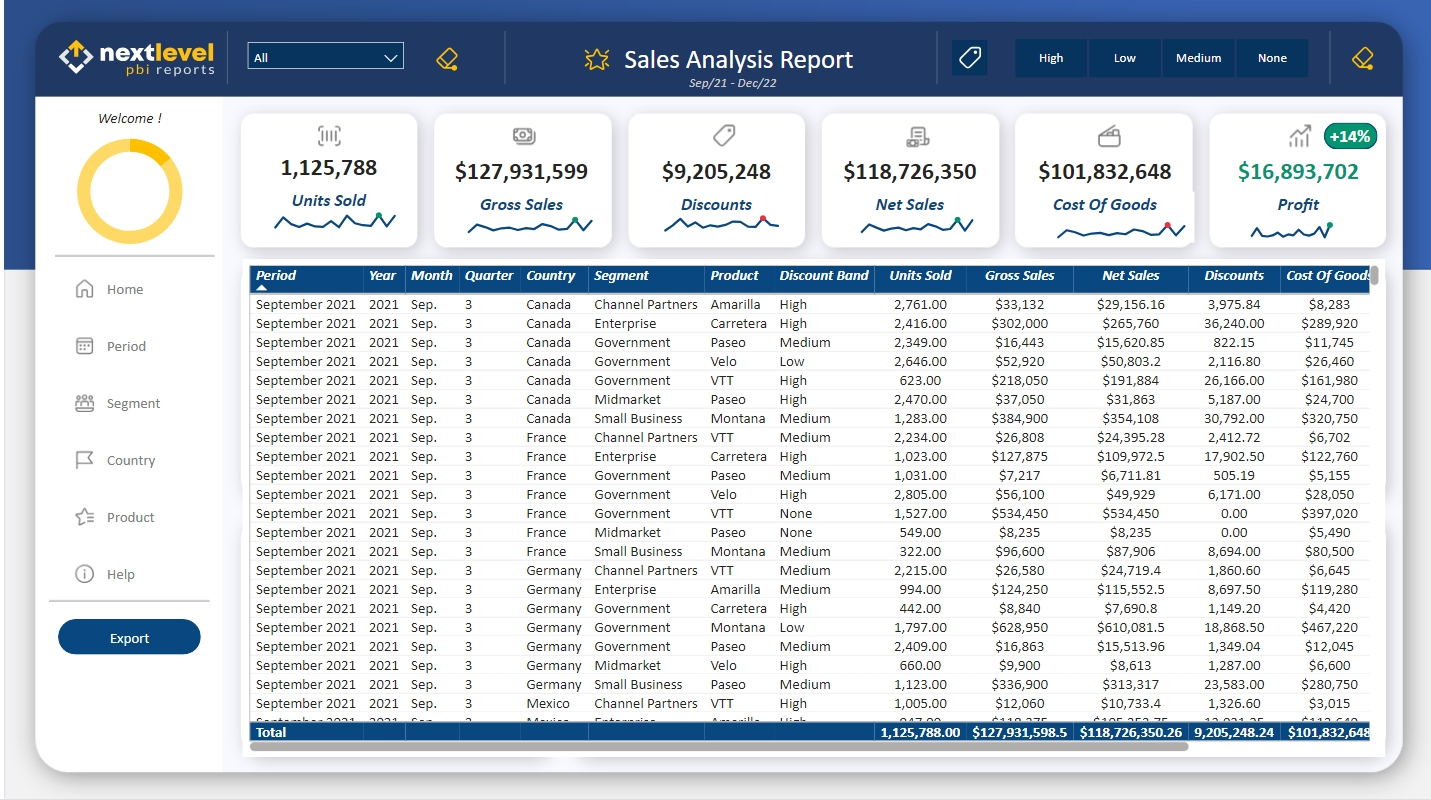

What the dashboard file says about the page in this screenshot:
{"tool":"powerbi","page":{"name":"Sales Analysis","canvas":[1280,720],"ordinal":1},"visuals":[{"type":"shape","title":"vertical line","box":[192,32,16,48],"z":0,"group":"g10"},{"type":"shape","title":"Profit margin Shape","box":[1182,114,48,24],"z":0,"group":"g7"},{"type":"shape","title":"line separate menu","box":[45,218,143,32],"z":0,"group":"g8"},{"type":"actionButton","title":"Units sold Button","box":[222,243,32,32],"z":0,"group":"g6"},{"type":"actionButton","title":"Net Sales Button","box":[567,243,32,32],"z":0,"group":"g4"},{"type":"actionButton","title":"Profit Button","box":[918,243,32,32],"z":0,"group":"g2"},{"type":"actionButton","title":"Period_active","box":[32,291,160,48],"z":0,"group":"g11"},{"type":"tableEx","fields":{"Values":["Dim_Date.Reporting period","Mesures.M_Units Sold","Mesures.M_Gross Sales","Mesures.M_Discounts","Mesures.M_Net Sales","Mesures.M_Cost Of Goods","Mesures.M_Profit","Mesures.M_Profit Margin Formatted"]},"box":[512,464,720,216],"z":0,"group":"g5"},{"type":"actionButton","title":"COGs Button","box":[224,472,32,32],"z":0,"group":"g1"},{"type":"actionButton","title":"Export","box":[48,560,128,32],"z":0,"group":"g3"},{"type":"slicer","title":"Manager Slicer","fields":{"Values":["DIM_MANAGERS.Manager Name"]},"box":[208,32,160,48],"z":1000,"group":"g9"},{"type":"shape","title":"vertical line","box":[440,32,16,48],"z":1000,"group":"g10"},{"type":"card","title":"Welcome_card","fields":{"Values":["Mesures.M_User Greeting"]},"box":[32,96,160,32],"z":1000,"group":"g8"},{"type":"card","title":"Profit margin Card","fields":{"Values":["Mesures.M_Profit Margin Formatted"]},"box":[1178,106,54,42],"z":1000,"group":"g7"},{"type":"lineChart","title":"Profit by Period","fields":{"Category":["Dim_Date.Reporting period"],"Y":["Mesures.M_Profit"]},"box":[912,243,320,200],"z":1000,"group":"g2"},{"type":"areaChart","title":"Units Sold by Period","fields":{"Category":["Dim_Date.Reporting period"],"Y":["Mesures.M_Units Sold"]},"box":[216,246,320,200],"z":1000,"group":"g6"},{"type":"lineChart","title":"Net Sales by Period","fields":{"Category":["Dim_Date.Reporting period"],"Y":["Mesures.M_Net Sales"]},"box":[560,246,320,200],"z":1000,"group":"g4"},{"type":"actionButton","title":"arrow Button","box":[160,291,32,48],"z":1000,"group":"g11"},{"type":"group","id":"g1","title":"CoGs Line chart","box":[200,472,304,200],"z":1000,"group":"g5"},{"type":"lineChart","title":"COGs by Period","fields":{"Category":["Dim_Date.Reporting period"],"Y":["Mesures.M_Cost Of Goods"]},"box":[200,472,304,200],"z":1000,"group":"g1"},{"type":"shape","title":"Bottom_line","box":[40,528,144,32],"z":1000,"group":"g3"},{"type":"shape","title":"vertical line","box":[832,32,8,48],"z":2000,"group":"g10"},{"type":"actionButton","title":" Clear Button  Manager","box":[378,44,36,25],"z":2000,"group":"g9"},{"type":"actionButton","title":"Profit Button","box":[1144,110,32,32],"z":2000,"group":"g7"},{"type":"donutChart","title":"Donut chart","fields":{"Y":["Mesures.M_Profit Margin","Mesures.M_100% Minus Profit Margin"]},"box":[48,112,128,128],"z":2000,"group":"g8"},{"type":"group","id":"g2","title":"Profit line chart","box":[912,235,321,208],"z":2000,"group":"g5"},{"type":"shape","title":"Profit margin Shape","box":[1145,243,88,24],"z":2000,"group":"g2"},{"type":"actionButton","title":"Help","box":[32,495,160,48],"z":2000,"group":"g3"},{"type":"shape","title":"vertical line","box":[1184,32,8,48],"z":3000,"group":"g10"},{"type":"actionButton","title":"Star Logo","box":[500,37,63,40],"z":3000,"group":"g9"},{"type":"pivotTable","title":"Profit Matrix","fields":{"Values":["SparklineData(Mesures.M_Profit_[Dim_Date.yearMonth])"]},"box":[1088,170,135,58],"z":3000,"group":"g7"},{"type":"card","title":"Profit margin Card","fields":{"Values":["Mesures.M_Profit YOY% Formatted"]},"box":[1145,235,87,42],"z":3000,"group":"g2"},{"type":"group","id":"g3","title":"Menu bar","box":[32,240,160,352],"z":3000,"group":"g8"},{"type":"group","id":"g4","title":"Net sales line chart","box":[560,243,320,203],"z":3000,"group":"g5"},{"type":"textbox","title":"Title","box":[550,37,235,41],"z":4000,"group":"g9"},{"type":"card","title":"Profit Card","fields":{"Values":["Mesures.M_Profit"]},"box":[1086,119,144,96],"z":4000,"group":"g7"},{"type":"group","id":"g5","title":"Period","box":[200,235,1033,445],"z":4000},{"type":"group","id":"g6","title":"Units sold line chart","box":[216,243,320,203],"z":4000,"group":"g5"},{"type":"actionButton","title":"Product","box":[32,444,160,48],"z":4000,"group":"g3"},{"type":"card","title":"Selected_date Card ","fields":{"Values":["Mesures.M_Date Selection"]},"box":[592,64,120,24],"z":5000,"group":"g9"},{"type":"group","id":"g7","title":"Upper Cards - Static","box":[213,106,1019,132],"z":5000},{"type":"actionButton","title":"COGs Button","box":[973.4,110,32,32],"z":5000,"group":"g7"},{"type":"actionButton","title":"Dynamic Filter_button","box":[848,40,32,32],"z":6000,"group":"g9"},{"type":"group","id":"g8","title":"Navigation","box":[32,96,160,496],"z":6000},{"type":"pivotTable","title":"COGs Matrix","fields":{"Values":["SparklineData(Mesures.M_Cost Of Goods_[Dim_Date.yearMonth])"]},"box":[914.8,170,157,68],"z":6000,"group":"g7"},{"type":"actionButton","title":"Country","box":[32,393,160,48],"z":6000,"group":"g3"},{"type":"group","id":"g9","title":"Header","box":[192,32,1048,56],"z":7000},{"type":"slicer","title":"Slicer for Discount Band","fields":{"Values":["FACT_SALES.Discount Band"]},"box":[880,32,312,48],"z":7000,"group":"g9"},{"type":"card","title":"COGs Card","fields":{"Values":["Mesures.M_Cost Of Goods"]},"box":[912.2,119,144,96],"z":7000,"group":"g7"},{"type":"actionButton","title":"Clear Button","box":[1192,40,48,32],"z":8000,"group":"g9"},{"type":"actionButton","title":"Net Sales Button","box":[802.8,110,32,32],"z":8000,"group":"g7"},{"type":"actionButton","title":"Segment","box":[32,342,160,48],"z":8000,"group":"g3"},{"type":"group","id":"g10","title":"Vertical lines","box":[192,32,1000,48],"z":9000,"group":"g9"},{"type":"pivotTable","title":"Net sales Matrix","fields":{"Values":["SparklineData(Mesures.M_Net Sales_[Dim_Date.yearMonth])"]},"box":[738.6,164,170,64],"z":9000,"group":"g7"},{"type":"group","id":"g11","title":"Period_active","box":[32,291,160,48],"z":9000,"group":"g3"},{"type":"card","title":"Net_sales Card","fields":{"Values":["Mesures.M_Net Sales"]},"box":[738.4,119,144,96],"z":10000,"group":"g7"},{"type":"actionButton","title":"Discounts Button","box":[624.2,110,40,32],"z":11000,"group":"g7"},{"type":"actionButton","title":"Home","box":[32,240,160,48],"z":11000,"group":"g3"},{"type":"pivotTable","title":"Discounts Matrix","fields":{"Values":["SparklineData(Mesures.M_Discounts_[Dim_Date.yearMonth])"]},"box":[562.4,162,170,66],"z":12000,"group":"g7"},{"type":"card","title":"Discounts Card","fields":{"Values":["Mesures.M_Discounts"]},"box":[564.6,119,144,96],"z":13000,"group":"g7"},{"type":"actionButton","title":"Gross sales Button","box":[445.6,110,40,32],"z":14000,"group":"g7"},{"type":"pivotTable","title":"Gross_sales Matrix","fields":{"Values":["SparklineData(Mesures.M_Gross Sales_[Dim_Date.yearMonth])"]},"box":[386.2,164,170,64],"z":15000,"group":"g7"},{"type":"card","title":"Gross_sales Card","fields":{"Values":["Mesures.M_Gross Sales"]},"box":[390.8,119,144,96],"z":16000,"group":"g7"},{"type":"actionButton","title":"Units sold Button","box":[275,110,32,32],"z":17000,"group":"g7"},{"type":"pivotTable","title":"Unit_sold Matrix","fields":{"Values":["SparklineData(Mesures.M_Units Sold_[Dim_Date.yearMonth])"]},"box":[213,160,170,68],"z":18000,"group":"g7"},{"type":"card","title":"Unit_sold Card","fields":{"Values":["Mesures.M_Units Sold"]},"box":[218,119,143,89],"z":19000,"group":"g7"}]}

Visuals, with their boxes in screenshot pixels (x1, y1, x2, y2), scaled from the page's 1280x720 canvas onto the 1431x800 screenshot:
"vertical line" shape: (215, 36, 233, 89)
"Profit margin Shape" shape: (1321, 127, 1375, 153)
"line separate menu" shape: (50, 242, 210, 278)
"Units sold Button" actionButton: (248, 270, 284, 306)
"Net Sales Button" actionButton: (634, 270, 670, 306)
"Profit Button" actionButton: (1026, 270, 1062, 306)
"Period_active" actionButton: (36, 323, 215, 377)
tableEx - Dim_Date.Reporting period x Mesures.M_Units Sold: (572, 516, 1377, 756)
"COGs Button" actionButton: (250, 524, 286, 560)
"Export" actionButton: (54, 622, 197, 658)
"Manager Slicer" slicer: (233, 36, 411, 89)
"vertical line" shape: (492, 36, 510, 89)
"Welcome_card" card: (36, 107, 215, 142)
"Profit margin Card" card: (1317, 118, 1377, 164)
"Profit by Period" lineChart: (1020, 270, 1377, 492)
"Units Sold by Period" areaChart: (241, 273, 599, 496)
"Net Sales by Period" lineChart: (626, 273, 984, 496)
"arrow Button" actionButton: (179, 323, 215, 377)
"CoGs Line chart" group: (224, 524, 563, 747)
"COGs by Period" lineChart: (224, 524, 563, 747)
"Bottom_line" shape: (45, 587, 206, 622)
"vertical line" shape: (930, 36, 939, 89)
" Clear Button  Manager" actionButton: (423, 49, 463, 77)
"Profit Button" actionButton: (1279, 122, 1315, 158)
"Donut chart" donutChart: (54, 124, 197, 267)
"Profit line chart" group: (1020, 261, 1378, 492)
"Profit margin Shape" shape: (1280, 270, 1378, 297)
"Help" actionButton: (36, 550, 215, 603)
"vertical line" shape: (1324, 36, 1333, 89)
"Star Logo" actionButton: (559, 41, 629, 86)
"Profit Matrix" pivotTable: (1216, 189, 1367, 253)
"Profit margin Card" card: (1280, 261, 1377, 308)
"Menu bar" group: (36, 267, 215, 658)
"Net sales line chart" group: (626, 270, 984, 496)
"Title" textbox: (615, 41, 878, 87)
"Profit Card" card: (1214, 132, 1375, 239)
"Period" group: (224, 261, 1378, 756)
"Units sold line chart" group: (241, 270, 599, 496)
"Product" actionButton: (36, 493, 215, 547)
"Selected_date Card " card: (662, 71, 796, 98)
"Upper Cards - Static" group: (238, 118, 1377, 264)
"COGs Button" actionButton: (1088, 122, 1124, 158)
"Dynamic Filter_button" actionButton: (948, 44, 984, 80)
"Navigation" group: (36, 107, 215, 658)
"COGs Matrix" pivotTable: (1023, 189, 1198, 264)
"Country" actionButton: (36, 437, 215, 490)
"Header" group: (215, 36, 1386, 98)
"Slicer for Discount Band" slicer: (984, 36, 1333, 89)
"COGs Card" card: (1020, 132, 1181, 239)
"Clear Button" actionButton: (1333, 44, 1386, 80)
"Net Sales Button" actionButton: (898, 122, 933, 158)
"Segment" actionButton: (36, 380, 215, 433)
"Vertical lines" group: (215, 36, 1333, 89)
"Net sales Matrix" pivotTable: (826, 182, 1016, 253)
"Period_active" group: (36, 323, 215, 377)
"Net_sales Card" card: (826, 132, 986, 239)
"Discounts Button" actionButton: (698, 122, 743, 158)
"Home" actionButton: (36, 267, 215, 320)
"Discounts Matrix" pivotTable: (629, 180, 819, 253)
"Discounts Card" card: (631, 132, 792, 239)
"Gross sales Button" actionButton: (498, 122, 543, 158)
"Gross_sales Matrix" pivotTable: (432, 182, 622, 253)
"Gross_sales Card" card: (437, 132, 598, 239)
"Units sold Button" actionButton: (307, 122, 343, 158)
"Unit_sold Matrix" pivotTable: (238, 178, 428, 253)
"Unit_sold Card" card: (244, 132, 404, 231)
